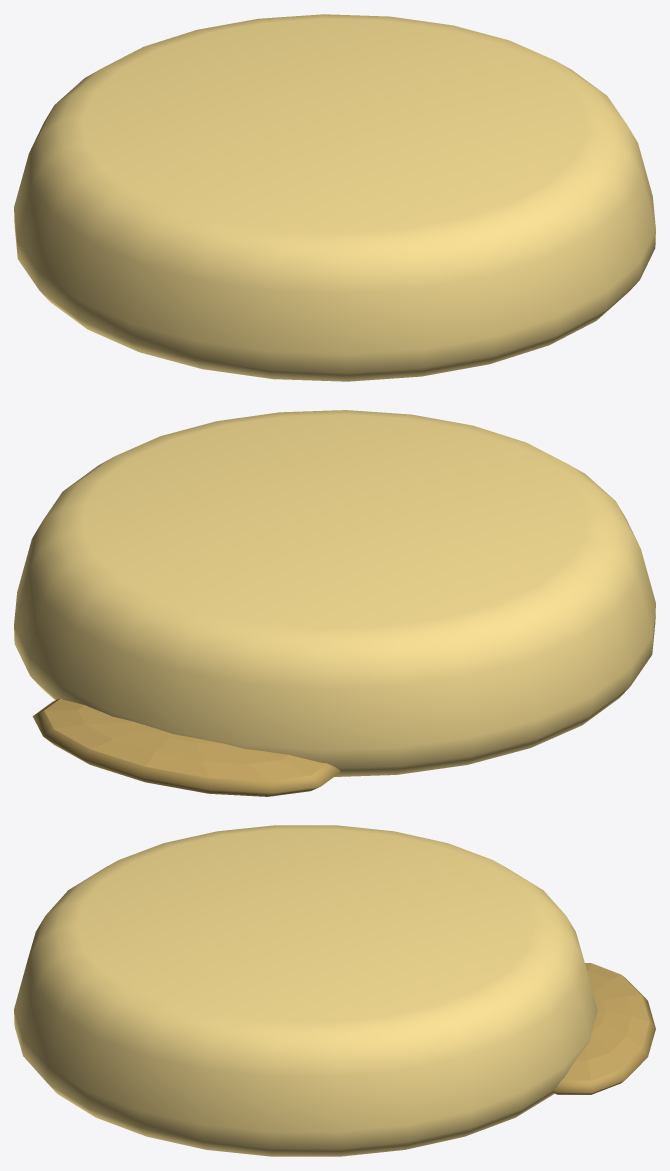
The model's file is Acc_Cap.fbx.
The picture shows the model from 3 angles, top to bottom: view 1: azimuth 30°, elevation 25°; view 2: azimuth 150°, elevation 25°; view 3: azimuth 270°, elevation 25°; orthographic projection. The views are drawn at different scales.
Visible parts, largest first — view 1: Cap; view 2: Cap, Cap_Visor; view 3: Cap, Cap_Visor.
Part boxes in pixels (x1,y1,x2,y2): Cap: (14,14,655,381); Cap: (14,410,655,776); Cap_Visor: (32,698,340,796); Cap: (14,825,597,1156); Cap_Visor: (553,963,655,1094).
Size of the model in its own units: 71.15 by 16.5 by 78.84.
